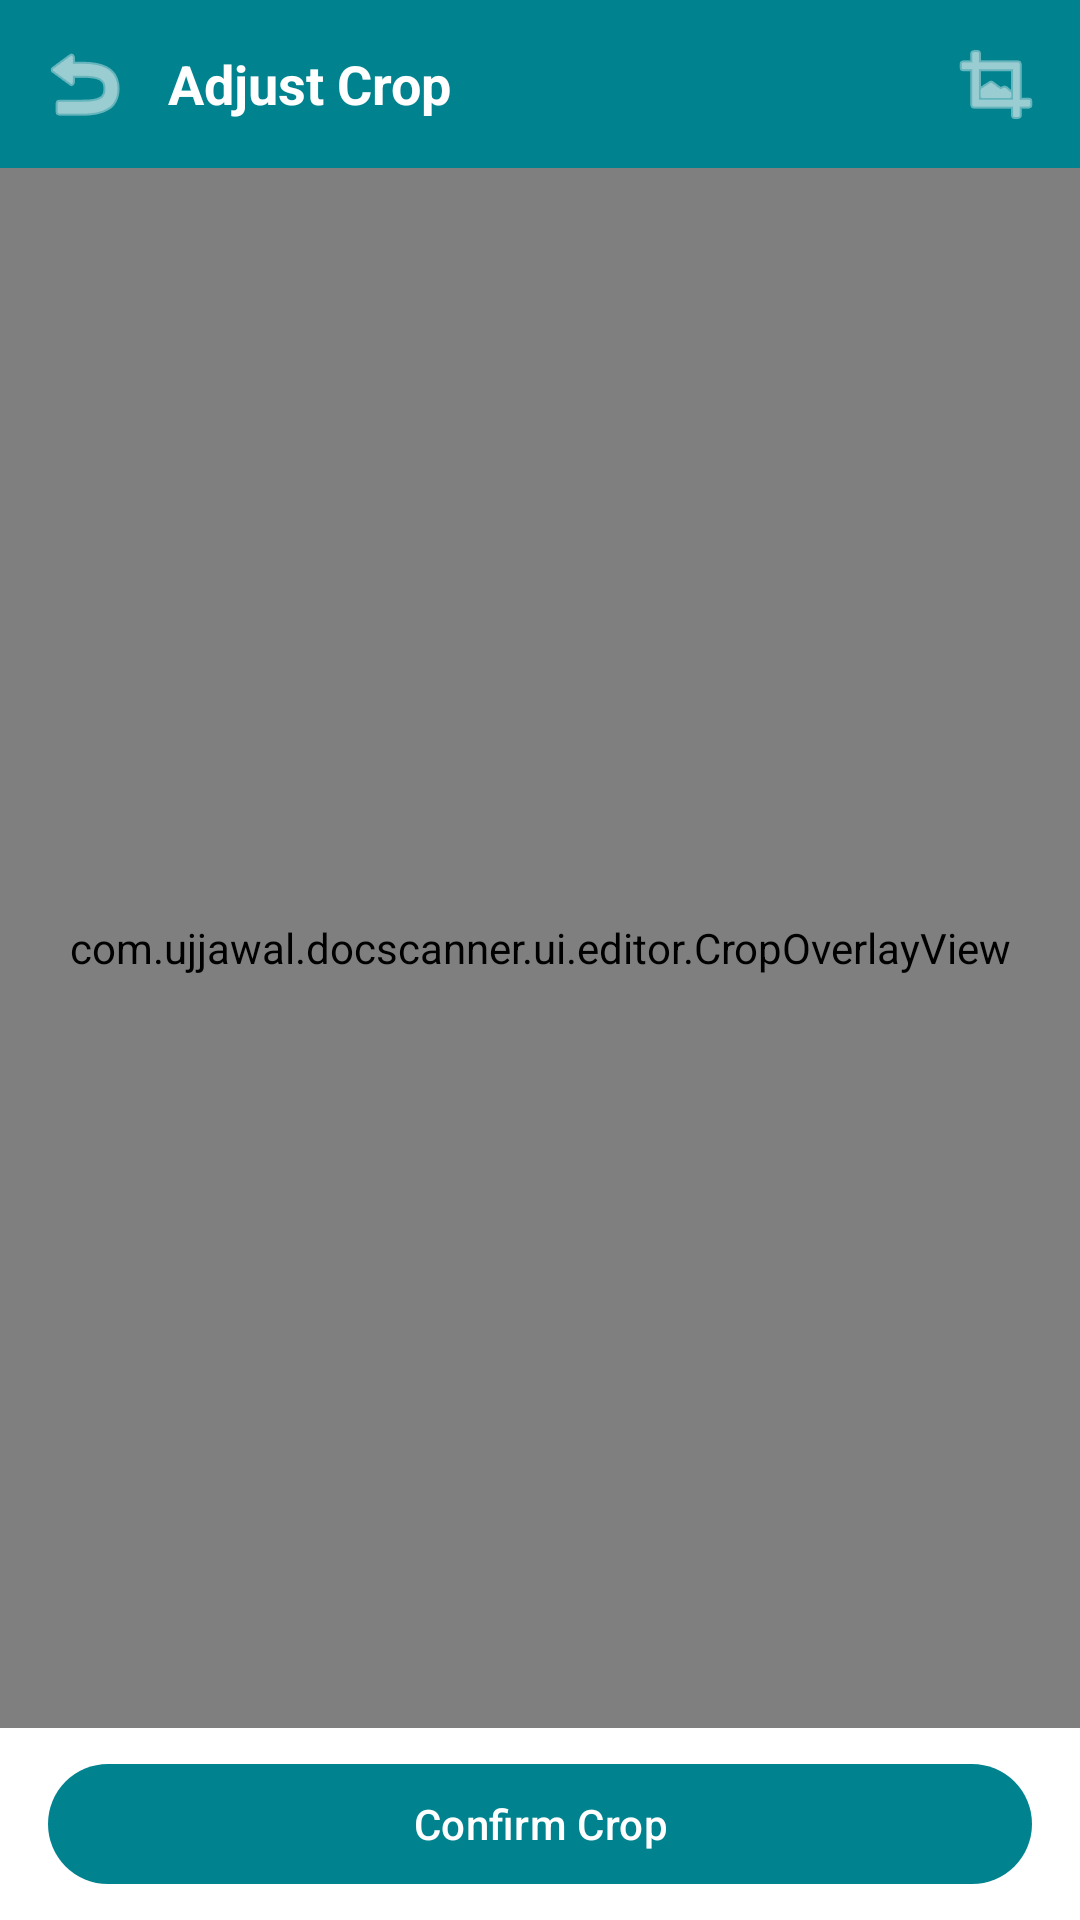

Icon click points for this 1080px×1920px phone screenshot, format (x=x, y=y):
Back: (x=85, y=84)
Reset crop: (x=996, y=84)
